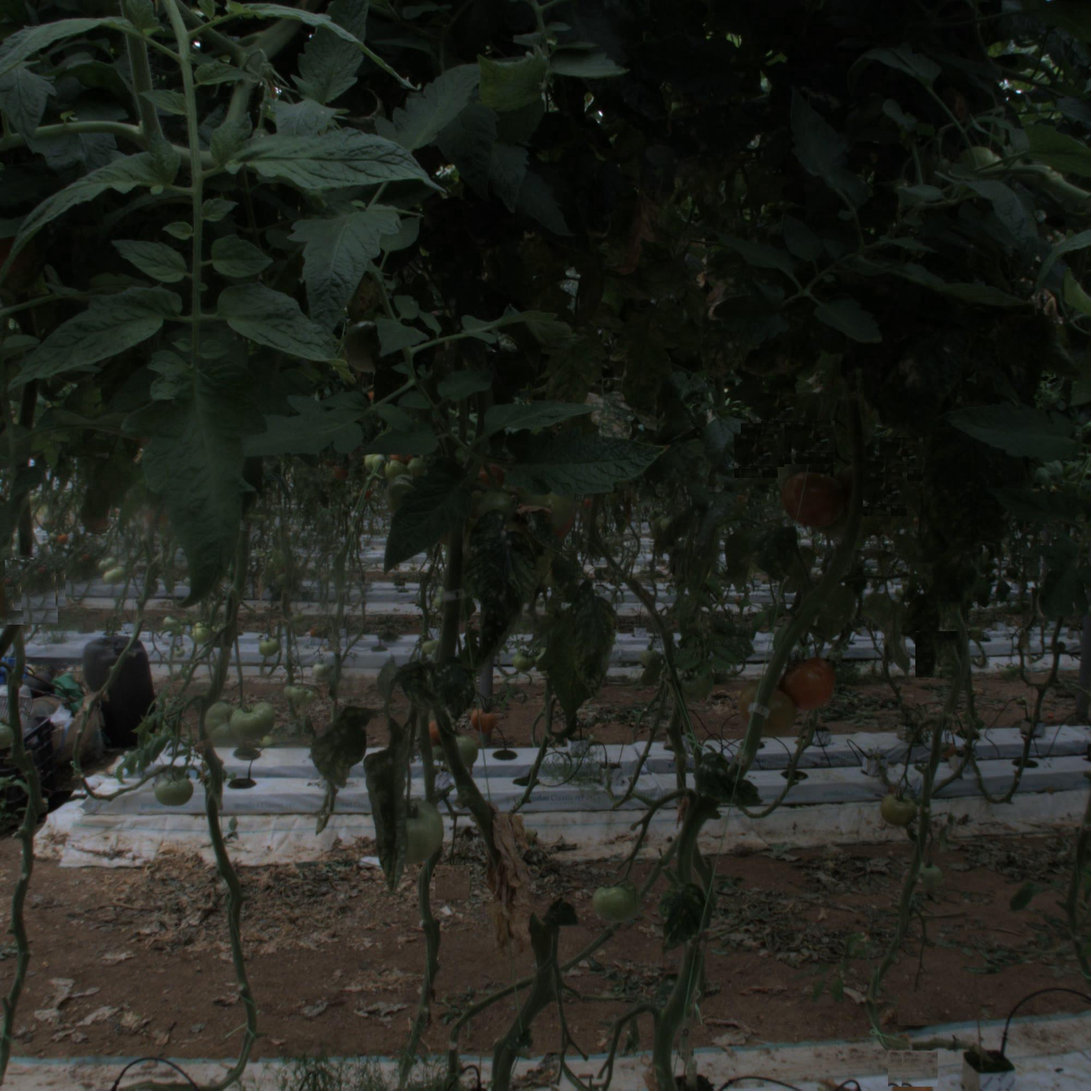['unripe', 'semi-ripe', 'fully-ripe']: (385, 800, 442, 857), (592, 876, 646, 929), (227, 697, 278, 747), (153, 763, 197, 808), (878, 792, 916, 830)
